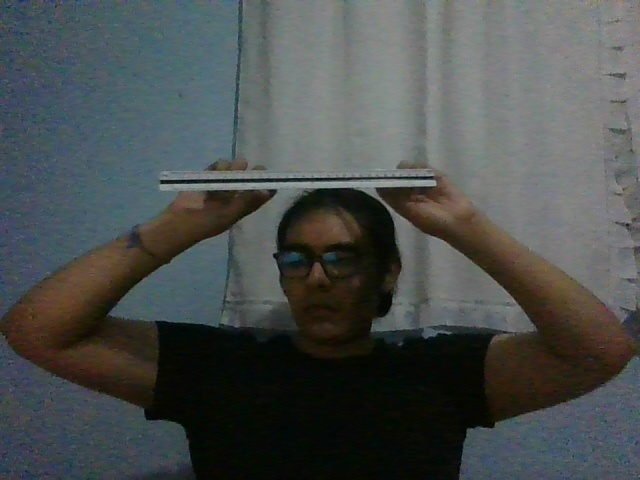regla: (157, 168, 437, 192)
